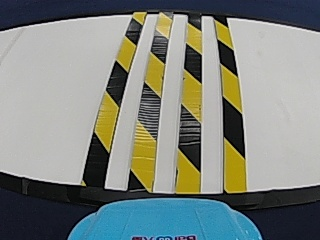bump: (81, 16, 249, 185)
